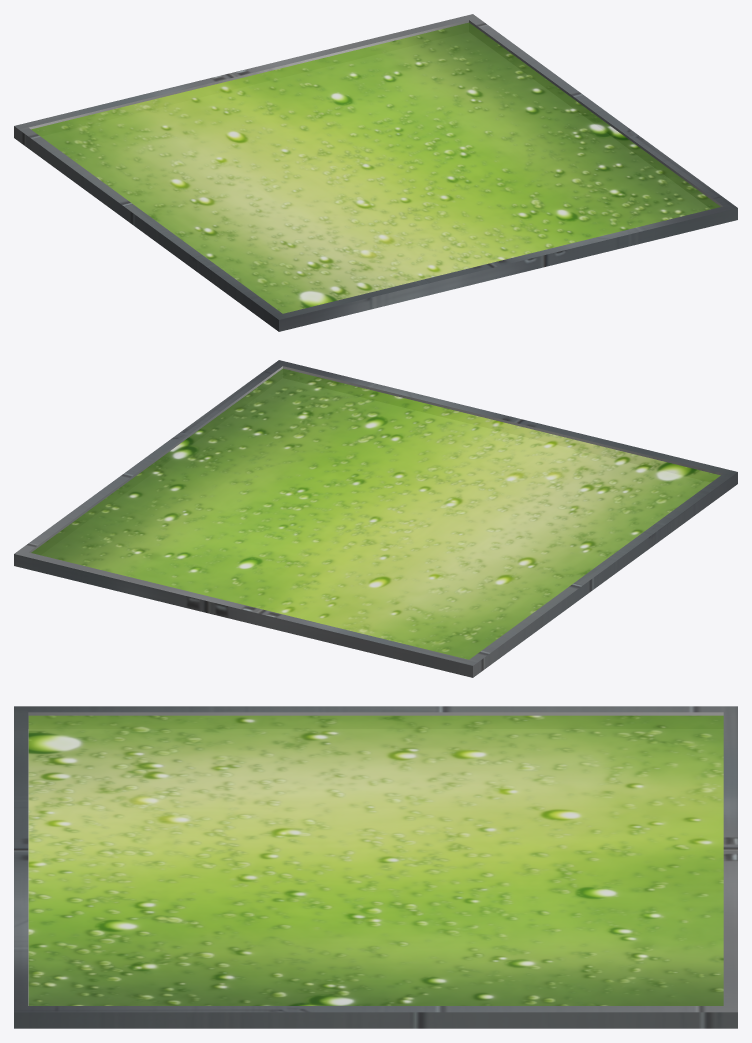
File: NMCFluidFloor000.fbx
3 views of the same model, one above another, from view 1: azimuth 30°, elevation 25°; view 2: azimuth 150°, elevation 25°; view 3: azimuth 270°, elevation 25° (orthographic). The views are drawn at different scales.
Parts seen in each view (by area): view 1: FluidFloor000; view 2: FluidFloor000; view 3: FluidFloor000.
Boxes of the visible parts, bbox=[...] form: FluidFloor000: bbox=[14, 14, 737, 331]; FluidFloor000: bbox=[14, 360, 737, 677]; FluidFloor000: bbox=[14, 706, 737, 1028].
Size of the model in its own units: 200 by 5 by 200.
2 materials, 2 textured.
